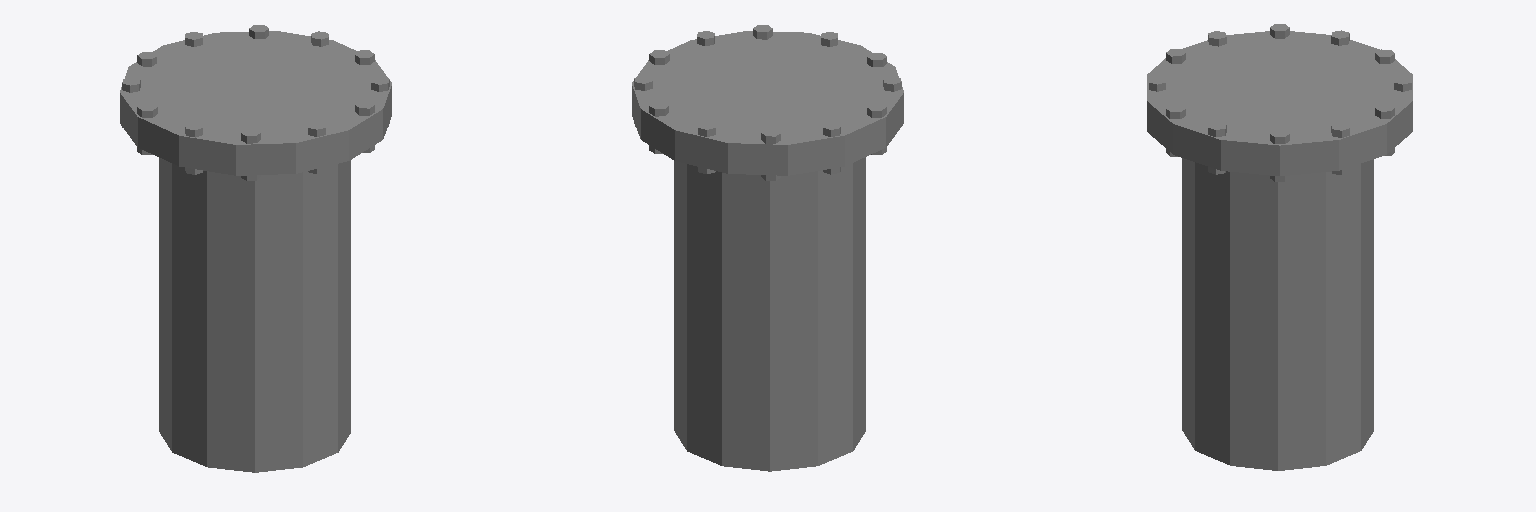
File: pipe_7.obj
The picture shows the model from 3 angles: view 1: azimuth 30°, elevation 25°; view 2: azimuth 150°, elevation 25°; view 3: azimuth 270°, elevation 25°; orthographic projection.
Parts seen in each view (by area): view 1: pipe_7.obj; view 2: pipe_7.obj; view 3: pipe_7.obj.
Boxes of the visible parts, x1,y1,x2,y2 form: pipe_7.obj: [120, 25, 391, 472]; pipe_7.obj: [632, 25, 903, 471]; pipe_7.obj: [1147, 24, 1412, 470].
Bounding box in the file's own units: 1.25 × 1.77 × 1.22.